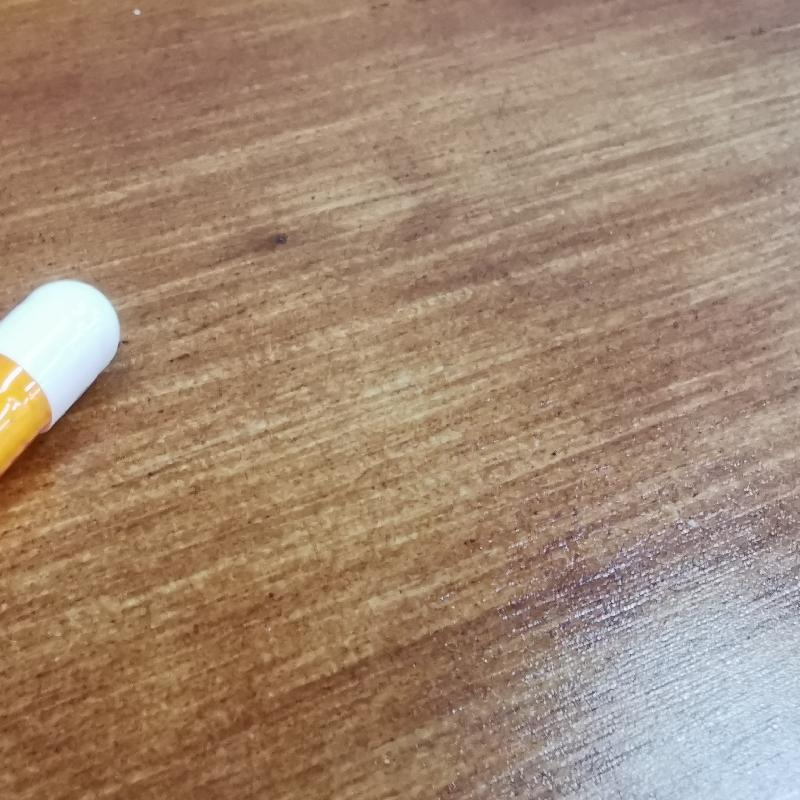pills: (0, 262, 131, 503)
